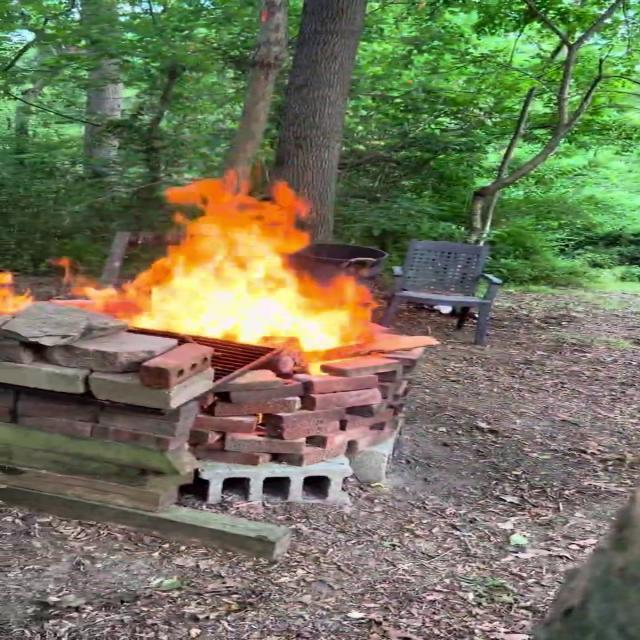Fire: (83, 162, 384, 362), (0, 264, 36, 320)
